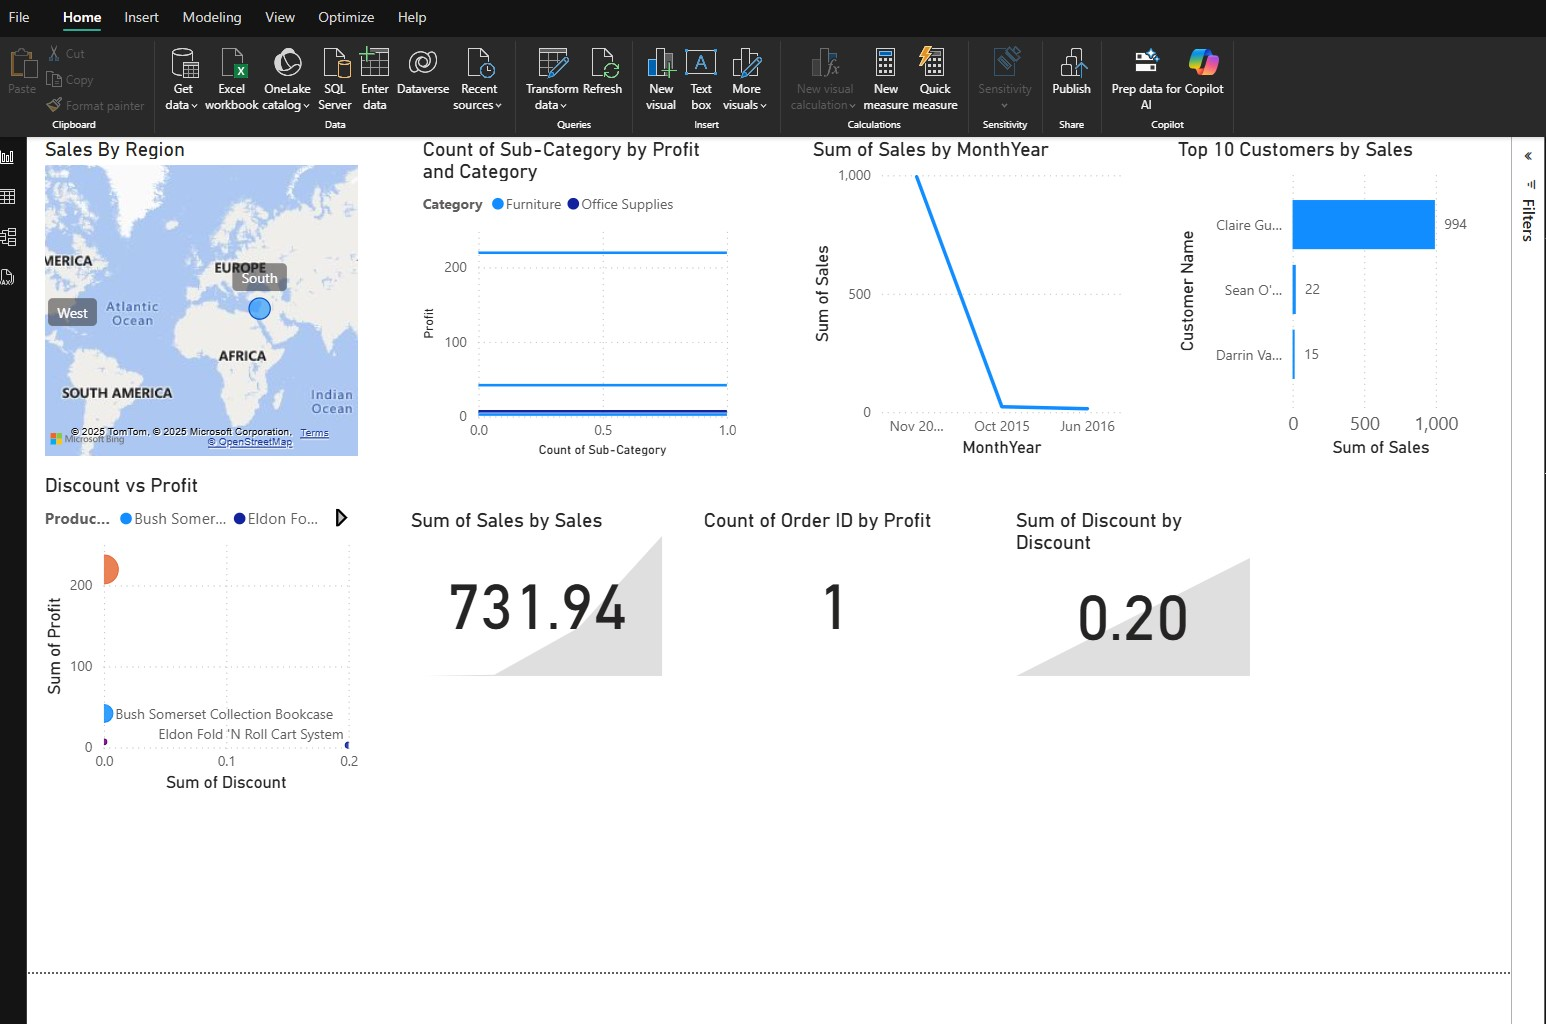

This screenshot's page, from the dashboard's own definition file:
{"tool":"powerbi","page":{"name":"Page 1","canvas":[1280,720],"ordinal":0},"visuals":[{"type":"map","title":"Sales By Region","fields":{"Category":["Superstore_Demo.Region"],"Size":["Sum(Superstore_Demo.Sales)"]},"box":[10,0,280,280],"z":0},{"type":"barChart","fields":{"Series":["Superstore_Demo.Category"],"Y":["CountNonNull(Superstore_Demo.Sub-Category)"],"Category":["Superstore_Demo.Profit"]},"box":[336.4,0,280.3,280.3],"z":1000},{"type":"lineChart","fields":{"Y":["Sum(Superstore_Demo.Sales)"],"Category":["Superstore_Demo.MonthYear"]},"box":[673.1,0,280.3,280.3],"z":2000},{"type":"clusteredBarChart","title":"Top 10 Customers by Sales","fields":{"Category":["Superstore_Demo.Customer Name"],"Y":["Sum(Superstore_Demo.Sales)"]},"box":[987.3,0,280.3,280.3],"z":3000},{"type":"scatterChart","title":"Discount vs Profit","fields":{"X":["Sum(Superstore_Demo.Discount)"],"Y":["Sum(Superstore_Demo.Profit)"],"Size":["Sum(Superstore_Demo.Sales)"],"Series":["Superstore_Demo.Product Name"]},"box":[10,290,280,280],"z":4000},{"type":"kpi","fields":{"TrendLine":["Superstore_Demo.Sales"],"Indicator":["Sum(Superstore_Demo.Sales)"]},"box":[326,320,226.8,150.1],"z":5000},{"type":"kpi","fields":{"Indicator":["CountNonNull(Superstore_Demo.Order ID)"],"TrendLine":["Superstore_Demo.Profit"]},"box":[578.8,320,234.6,150.1],"z":6000},{"type":"kpi","fields":{"Indicator":["Sum(Superstore_Demo.Discount)"],"TrendLine":["Superstore_Demo.Discount"]},"box":[847.9,320,212.2,150.1],"z":7000}]}

Visuals, with their boxes on the page's 1280x720 design canvas (x1, y1, x2, y2). These are canvas units, not pixel positions in the 1546x1024 screenshot, which may show the page scaled, cropped or inside an application window:
"Sales By Region" map: BBox(10, 0, 290, 280)
barChart - Superstore_Demo.Category x CountNonNull(Superstore_Demo.Sub-Category): BBox(336, 0, 617, 280)
lineChart - Sum(Superstore_Demo.Sales) x Superstore_Demo.MonthYear: BBox(673, 0, 953, 280)
"Top 10 Customers by Sales" clusteredBarChart: BBox(987, 0, 1268, 280)
"Discount vs Profit" scatterChart: BBox(10, 290, 290, 570)
kpi - Superstore_Demo.Sales x Sum(Superstore_Demo.Sales): BBox(326, 320, 553, 470)
kpi - CountNonNull(Superstore_Demo.Order ID) x Superstore_Demo.Profit: BBox(579, 320, 813, 470)
kpi - Sum(Superstore_Demo.Discount) x Superstore_Demo.Discount: BBox(848, 320, 1060, 470)
